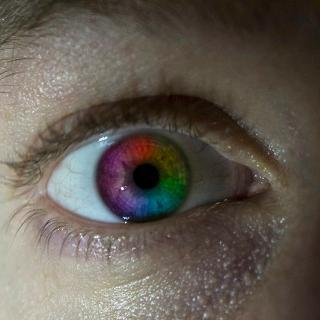pupil: (133, 163, 159, 189)
